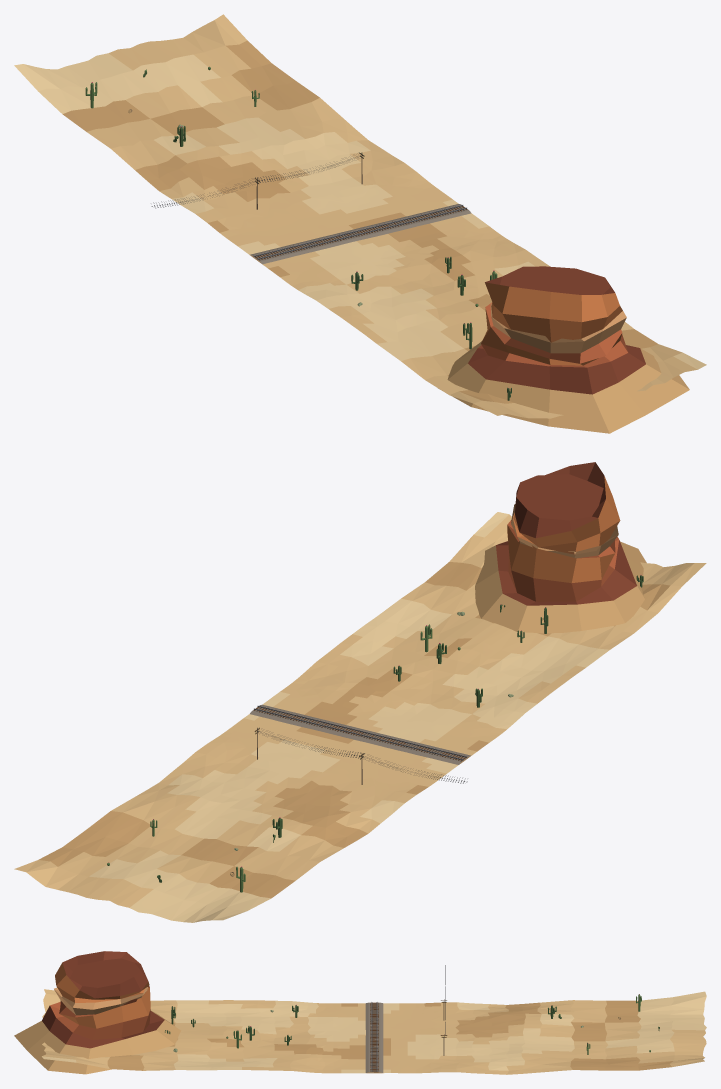
Rendered from chunk_flat_b.glb.
3 renders of one model, top to bottom at view 1: azimuth 30°, elevation 25°; view 2: azimuth 150°, elevation 25°; view 3: azimuth 270°, elevation 25°, orthographic. The views are drawn at different scales.
Visible parts, largest first — view 1: FG_Chunk_Flat_B_Track; view 2: FG_Chunk_Flat_B_Track; view 3: FG_Chunk_Flat_B_Track.
Boxes of the visible parts, x1=… form: FG_Chunk_Flat_B_Track: x1=14, y1=14, x2=706, y2=433; FG_Chunk_Flat_B_Track: x1=14, y1=462, x2=706, y2=922; FG_Chunk_Flat_B_Track: x1=14, y1=951, x2=706, y2=1074.
Bounding box in the file's own units: 62.51 × 25.29 × 210.
